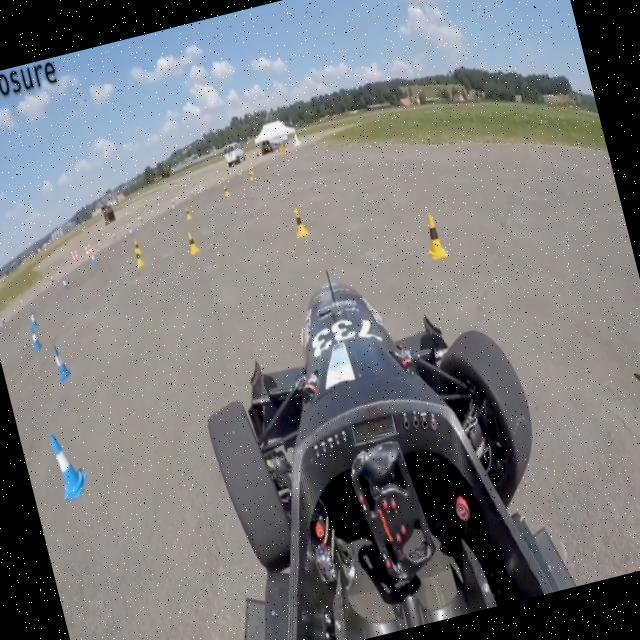blue_cone: (38, 424, 92, 506), (45, 339, 74, 382)
yellow_cone: (618, 306, 640, 408), (418, 208, 449, 266), (282, 194, 310, 242), (178, 222, 204, 258), (128, 239, 148, 270)
